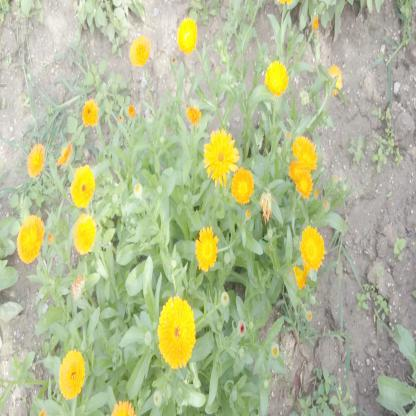marigold: (158, 295, 194, 363), (204, 128, 238, 188), (17, 214, 45, 262), (60, 349, 85, 399), (70, 165, 96, 207), (288, 157, 313, 196), (300, 224, 322, 268), (196, 227, 218, 270), (292, 134, 319, 169), (174, 18, 198, 55), (74, 213, 95, 254), (129, 36, 152, 66), (233, 170, 252, 206), (267, 60, 286, 93), (80, 98, 100, 126), (28, 144, 44, 178), (326, 64, 342, 94)
